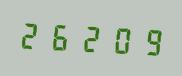nine: (134, 22, 162, 59)
six: (47, 17, 75, 55)
two: (18, 16, 46, 53), (76, 19, 104, 56)
zero: (105, 20, 133, 58)
